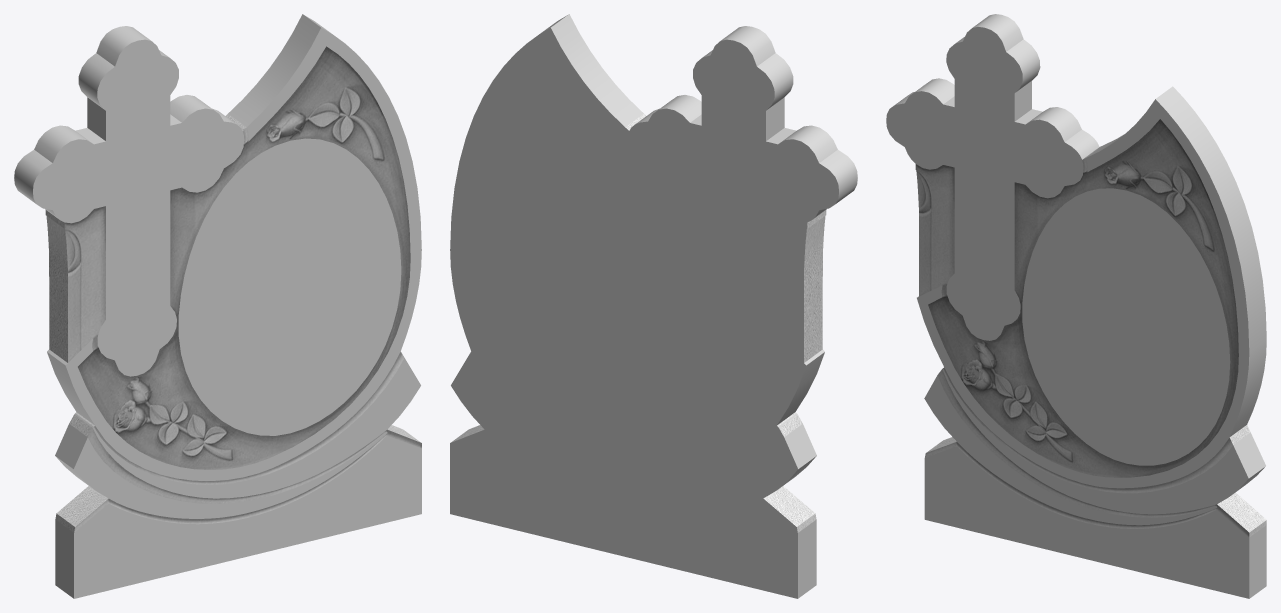
File: cn57f8e1bf8f_tkf.glb
3 renders of one model, left to right at view 1: azimuth 30°, elevation 25°; view 2: azimuth 150°, elevation 25°; view 3: azimuth 330°, elevation 25°, orthographic. The views are drawn at different scales.
Visible parts, largest first — view 1: Pam-d02-106, Pam-d02-106_2_notexture; view 2: Pam-d02-106, Pam-d02-106_2_notexture; view 3: Pam-d02-106, Pam-d02-106_2_notexture.
Boxes of the visible parts, x1,y1,x2,y2 form: Pam-d02-106: (14, 14, 421, 598); Pam-d02-106_2_notexture: (45, 46, 421, 532); Pam-d02-106: (450, 14, 857, 598); Pam-d02-106_2_notexture: (451, 114, 826, 532); Pam-d02-106: (886, 14, 1266, 598); Pam-d02-106_2_notexture: (915, 119, 1266, 537).
Bounding box in the file's own units: 0.6 × 0.8 × 0.05.
Materials: 1 (1 with a texture image).
